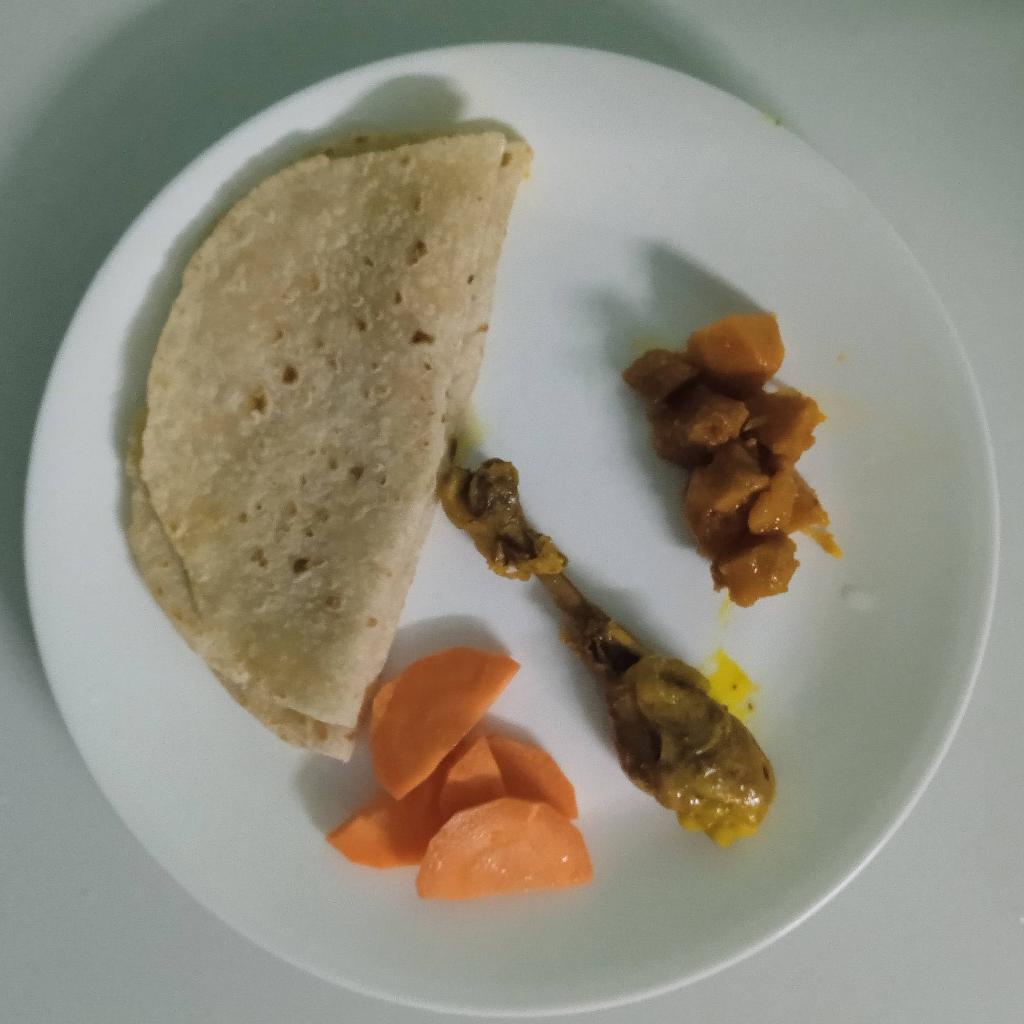carrot: (330, 645, 597, 903)
chicken: (444, 452, 771, 835)
kumra-vaji: (624, 309, 833, 601)
ruti: (121, 116, 528, 762)
